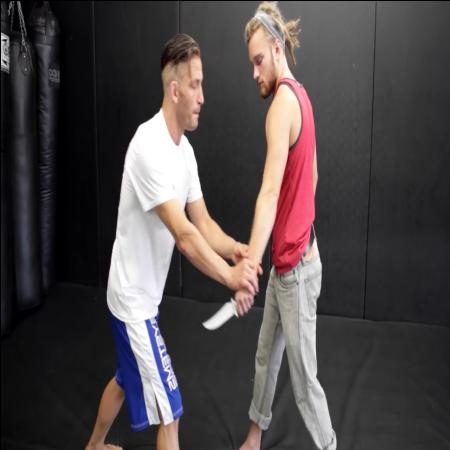long weapon: (198, 288, 258, 336)
